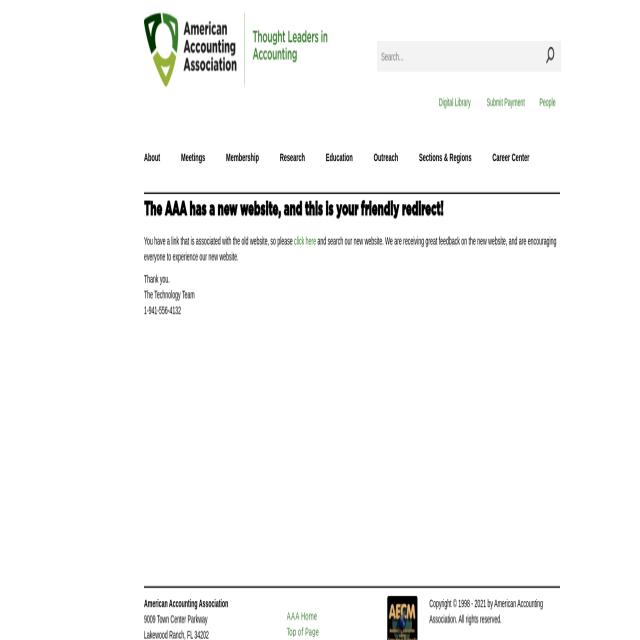button: (144, 12, 327, 86), (408, 135, 481, 180), (215, 135, 269, 180), (481, 135, 529, 180), (314, 135, 362, 180), (268, 135, 314, 180), (362, 135, 408, 180), (170, 135, 214, 180), (388, 596, 418, 640), (140, 134, 166, 178), (544, 44, 556, 68)
field: (377, 42, 561, 71)
